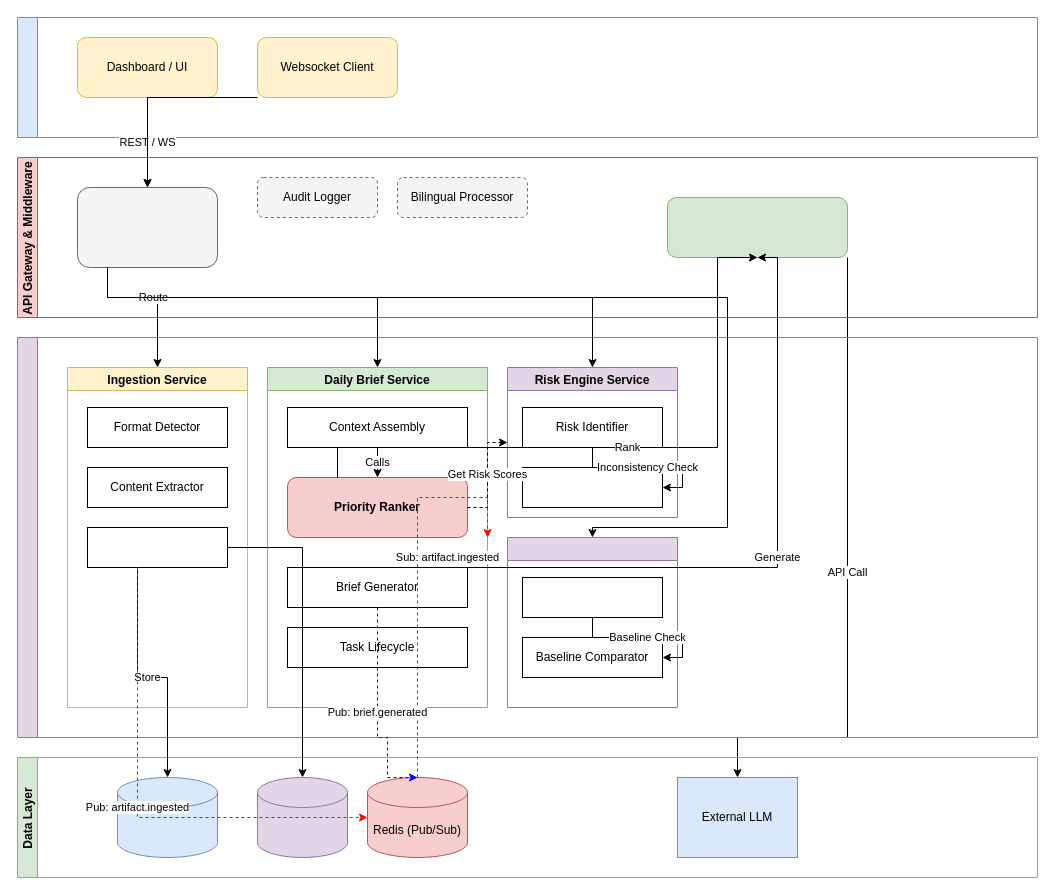
Some shapes in this 1055 by 895 pixel diagram are drawn without their labels. The box of each missing label's shape, as (x1, y1, x2, y2) in pixels:
Artifact Processor: (86, 526, 228, 568)
Core Services: (16, 336, 1038, 738)
Drift Detector Service: (506, 536, 678, 708)
FastAPI Gateway: (76, 186, 218, 268)
File Store (S3): (256, 776, 348, 858)
Frontend Layer: (16, 16, 1038, 138)
Inconsistency Checker: (522, 466, 662, 508)
LLM Client Abstraction: (666, 196, 848, 258)
PostgreSQL DB: (116, 776, 218, 858)
Scope Extractor: (522, 576, 662, 618)
